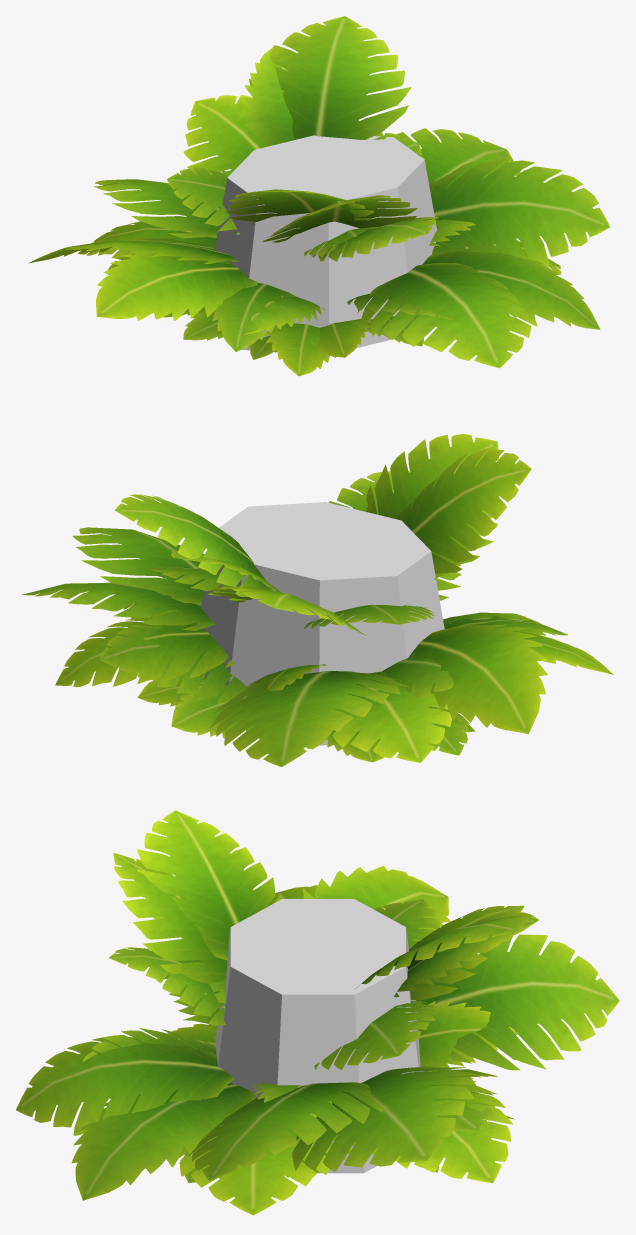
The model's file is IO_Bush_Tropical_B.glb.
3 renders of one model, top to bottom at view 1: azimuth 30°, elevation 25°; view 2: azimuth 150°, elevation 25°; view 3: azimuth 270°, elevation 25°, orthographic. The views are drawn at different scales.
Parts seen in each view (by area): view 1: IO_Bush_Tropical_B_LOD0, IO_Bush_Tropical_B_COL; view 2: IO_Bush_Tropical_B_LOD0, IO_Bush_Tropical_B_COL; view 3: IO_Bush_Tropical_B_LOD0, IO_Bush_Tropical_B_COL.
Boxes of the visible parts, bbox=[...] form: IO_Bush_Tropical_B_LOD0: bbox=[28, 16, 609, 376]; IO_Bush_Tropical_B_COL: bbox=[213, 135, 436, 351]; IO_Bush_Tropical_B_LOD0: bbox=[22, 434, 613, 766]; IO_Bush_Tropical_B_COL: bbox=[200, 502, 444, 745]; IO_Bush_Tropical_B_LOD0: bbox=[16, 810, 619, 1215]; IO_Bush_Tropical_B_COL: bbox=[214, 899, 424, 1173].
Size of what is drawn, in the model's own units: 2.21 by 0.8511 by 1.82.
1 material, 1 textured.
